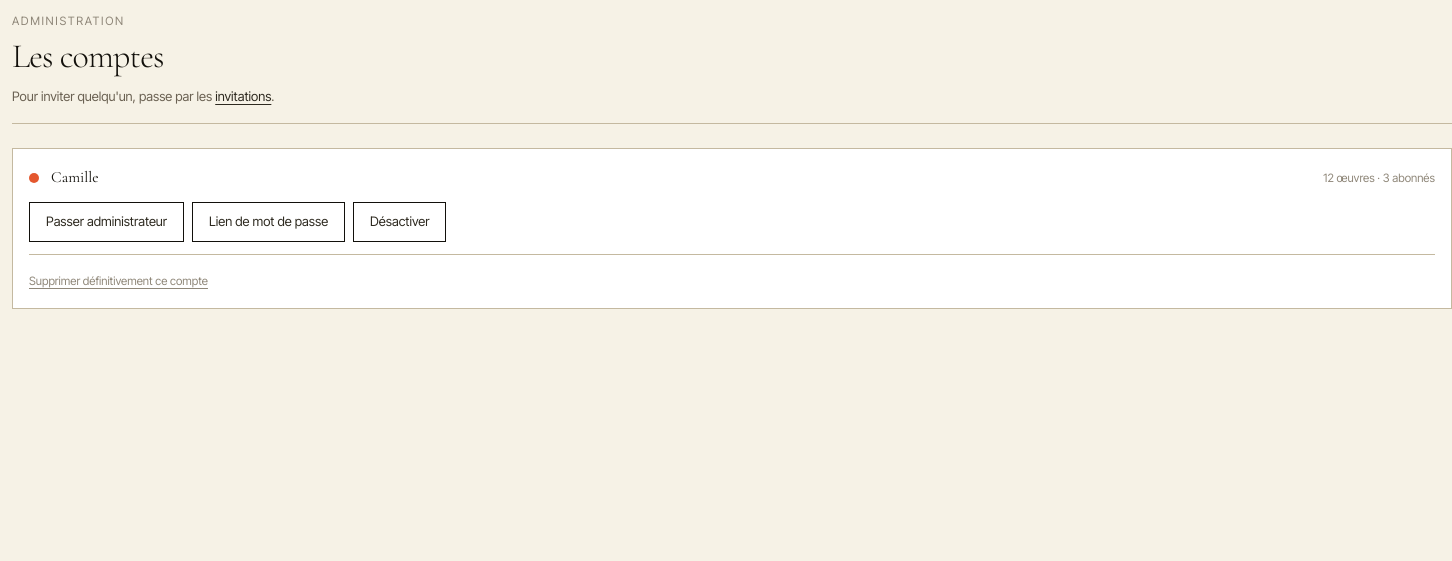
Test: Administration des comptes — les gestes qu’on ne rattrape pas › propose la désactivation comme le geste ordinaire du départ
The image size is (1452, 561).
Click the button "Supprimer définitivement ce compte" at [118, 281], box [29, 272, 208, 290]
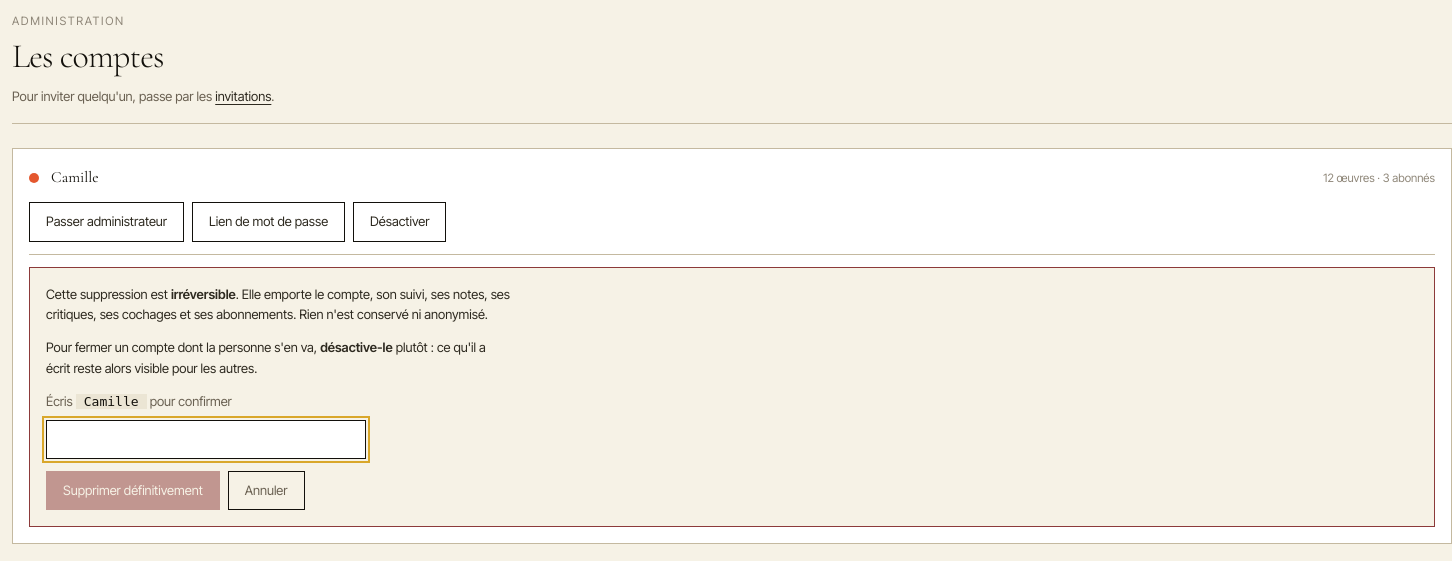
Expected: the text "irréversible" is shown, [171, 286, 236, 302]
Expected: the text "reste alors visible pour les autres" is shown, [46, 339, 486, 376]
